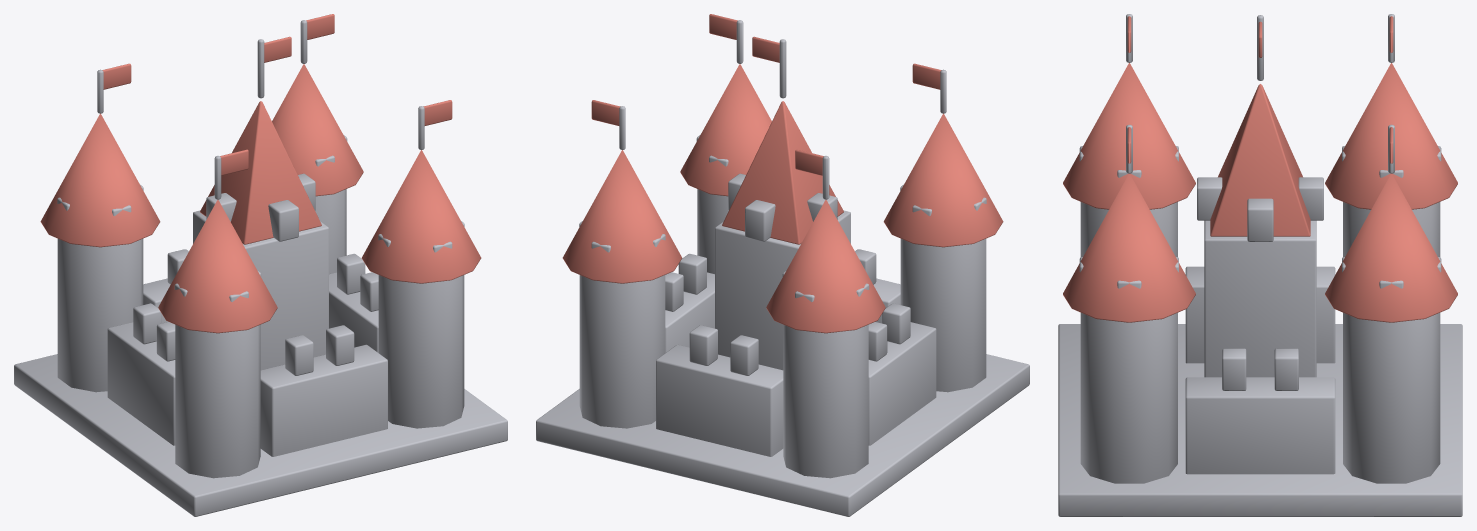
The model's file is castle_t1.glb.
3 views of the same model, side by side, from view 1: azimuth 30°, elevation 25°; view 2: azimuth 150°, elevation 25°; view 3: azimuth 270°, elevation 25° (orthographic). The views are drawn at different scales.
Parts seen in each view (by area): view 1: stone, roof; view 2: stone, roof; view 3: stone, roof.
Part boxes in pixels (x1,y1,x2,y2): stone: [14, 20, 507, 516]; roof: [40, 14, 481, 333]; stone: [536, 20, 1029, 516]; roof: [562, 14, 1003, 333]; stone: [1058, 14, 1462, 516]; roof: [1063, 16, 1457, 322].
Bounding box in the file's own units: 2.16 × 2.46 × 2.16.
